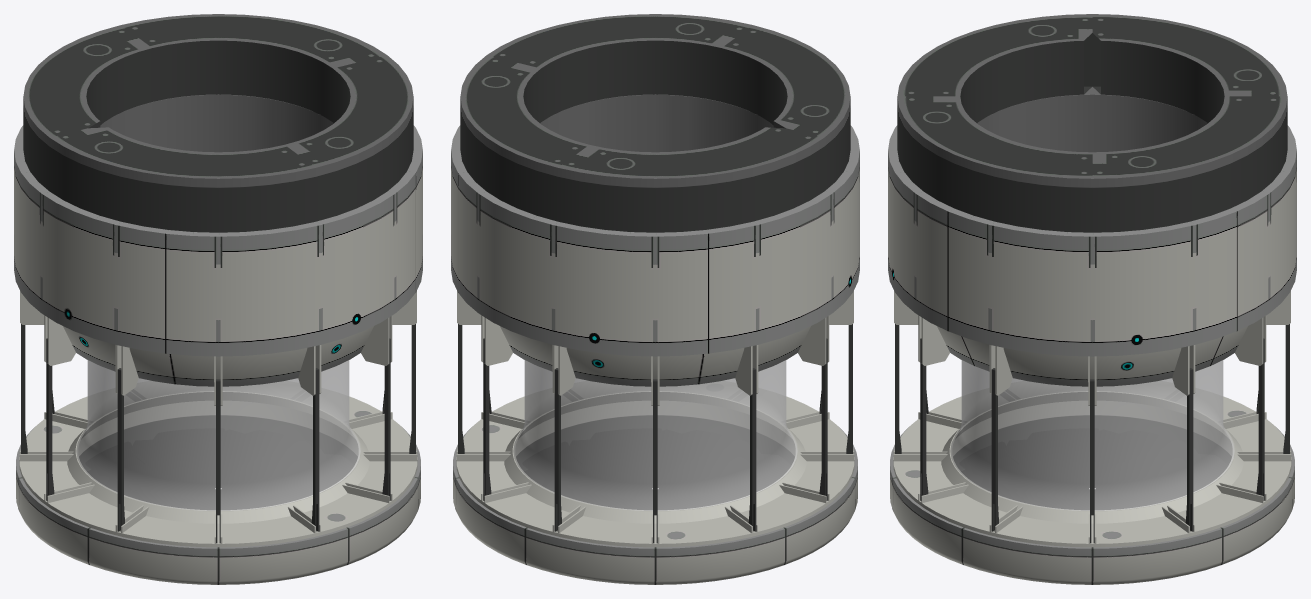
File: cube_dispenser.glb
3 views of the same model, side by side, from view 1: azimuth 30°, elevation 25°; view 2: azimuth 150°, elevation 25°; view 3: azimuth 270°, elevation 25° (orthographic).
Parts seen in each view (by area): view 1: body, glass, cover; view 2: body, glass, cover; view 3: body, glass, cover.
Part boxes in pixels (x1=…): body: x1=14, y1=14, x2=422, y2=584; glass: x1=76, y1=360, x2=360, y2=510; cover: x1=86, y1=428, x2=353, y2=509; body: x1=451, y1=14, x2=859, y2=584; glass: x1=513, y1=360, x2=797, y2=510; cover: x1=523, y1=428, x2=790, y2=509; body: x1=888, y1=14, x2=1296, y2=584; glass: x1=950, y1=360, x2=1234, y2=510; cover: x1=960, y1=428, x2=1227, y2=509.
Bounding box in the file's own units: 1.4 × 1.54 × 1.4.
Materials: 3 (1 with a texture image).
